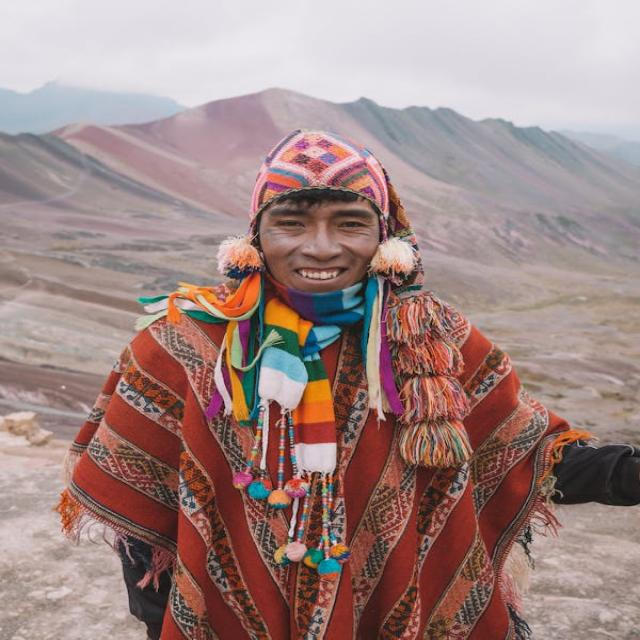Real human 2: (80, 121, 574, 640)
